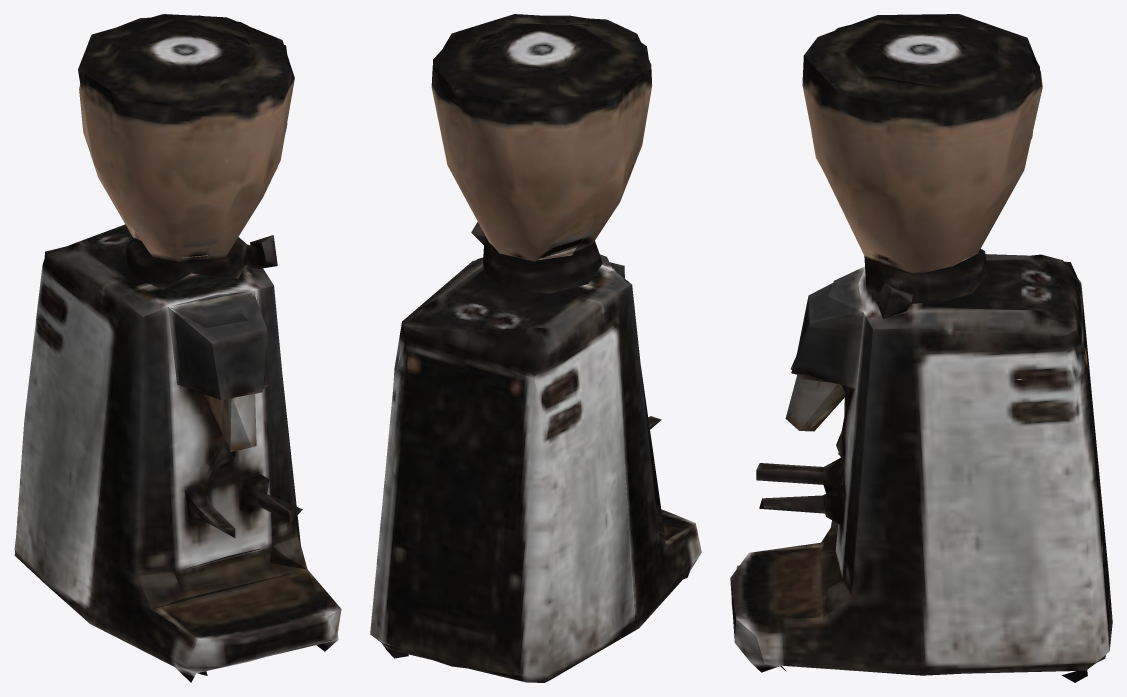
File: p7-espresso-grinder.glb
The picture shows the model from 3 angles, left to right: view 1: azimuth 30°, elevation 25°; view 2: azimuth 150°, elevation 25°; view 3: azimuth 270°, elevation 25°; orthographic projection. The views are drawn at different scales.
Parts seen in each view (by area): view 1: p7-espresso-grinder; view 2: p7-espresso-grinder; view 3: p7-espresso-grinder.
Boxes of the visible parts, box(x1,y1,x2,y2) form: p7-espresso-grinder: box(14, 14, 341, 682); p7-espresso-grinder: box(370, 14, 701, 682); p7-espresso-grinder: box(730, 14, 1112, 682).
Bounding box in the file's own units: 0.22 × 0.6 × 0.35.
Materials: 1 (1 with a texture image).
